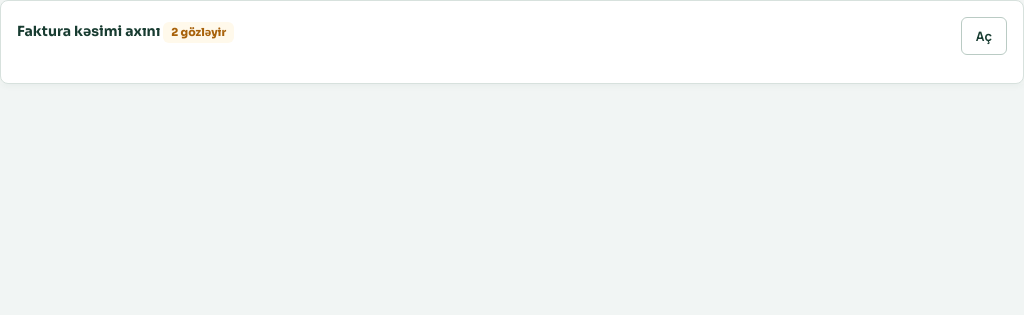
Test: refreshes billing sources when the invoice list changes and shows load errors
Click the button "Aç" at (984, 36), box [961,17,1007,55]
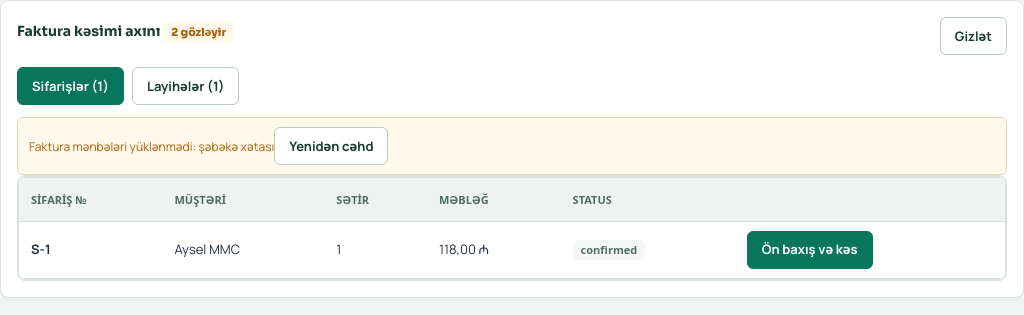
Expected: the message shows "Faktura mənbələri yüklənmədi: şəbəkə xətası", [17,117,1007,175]
